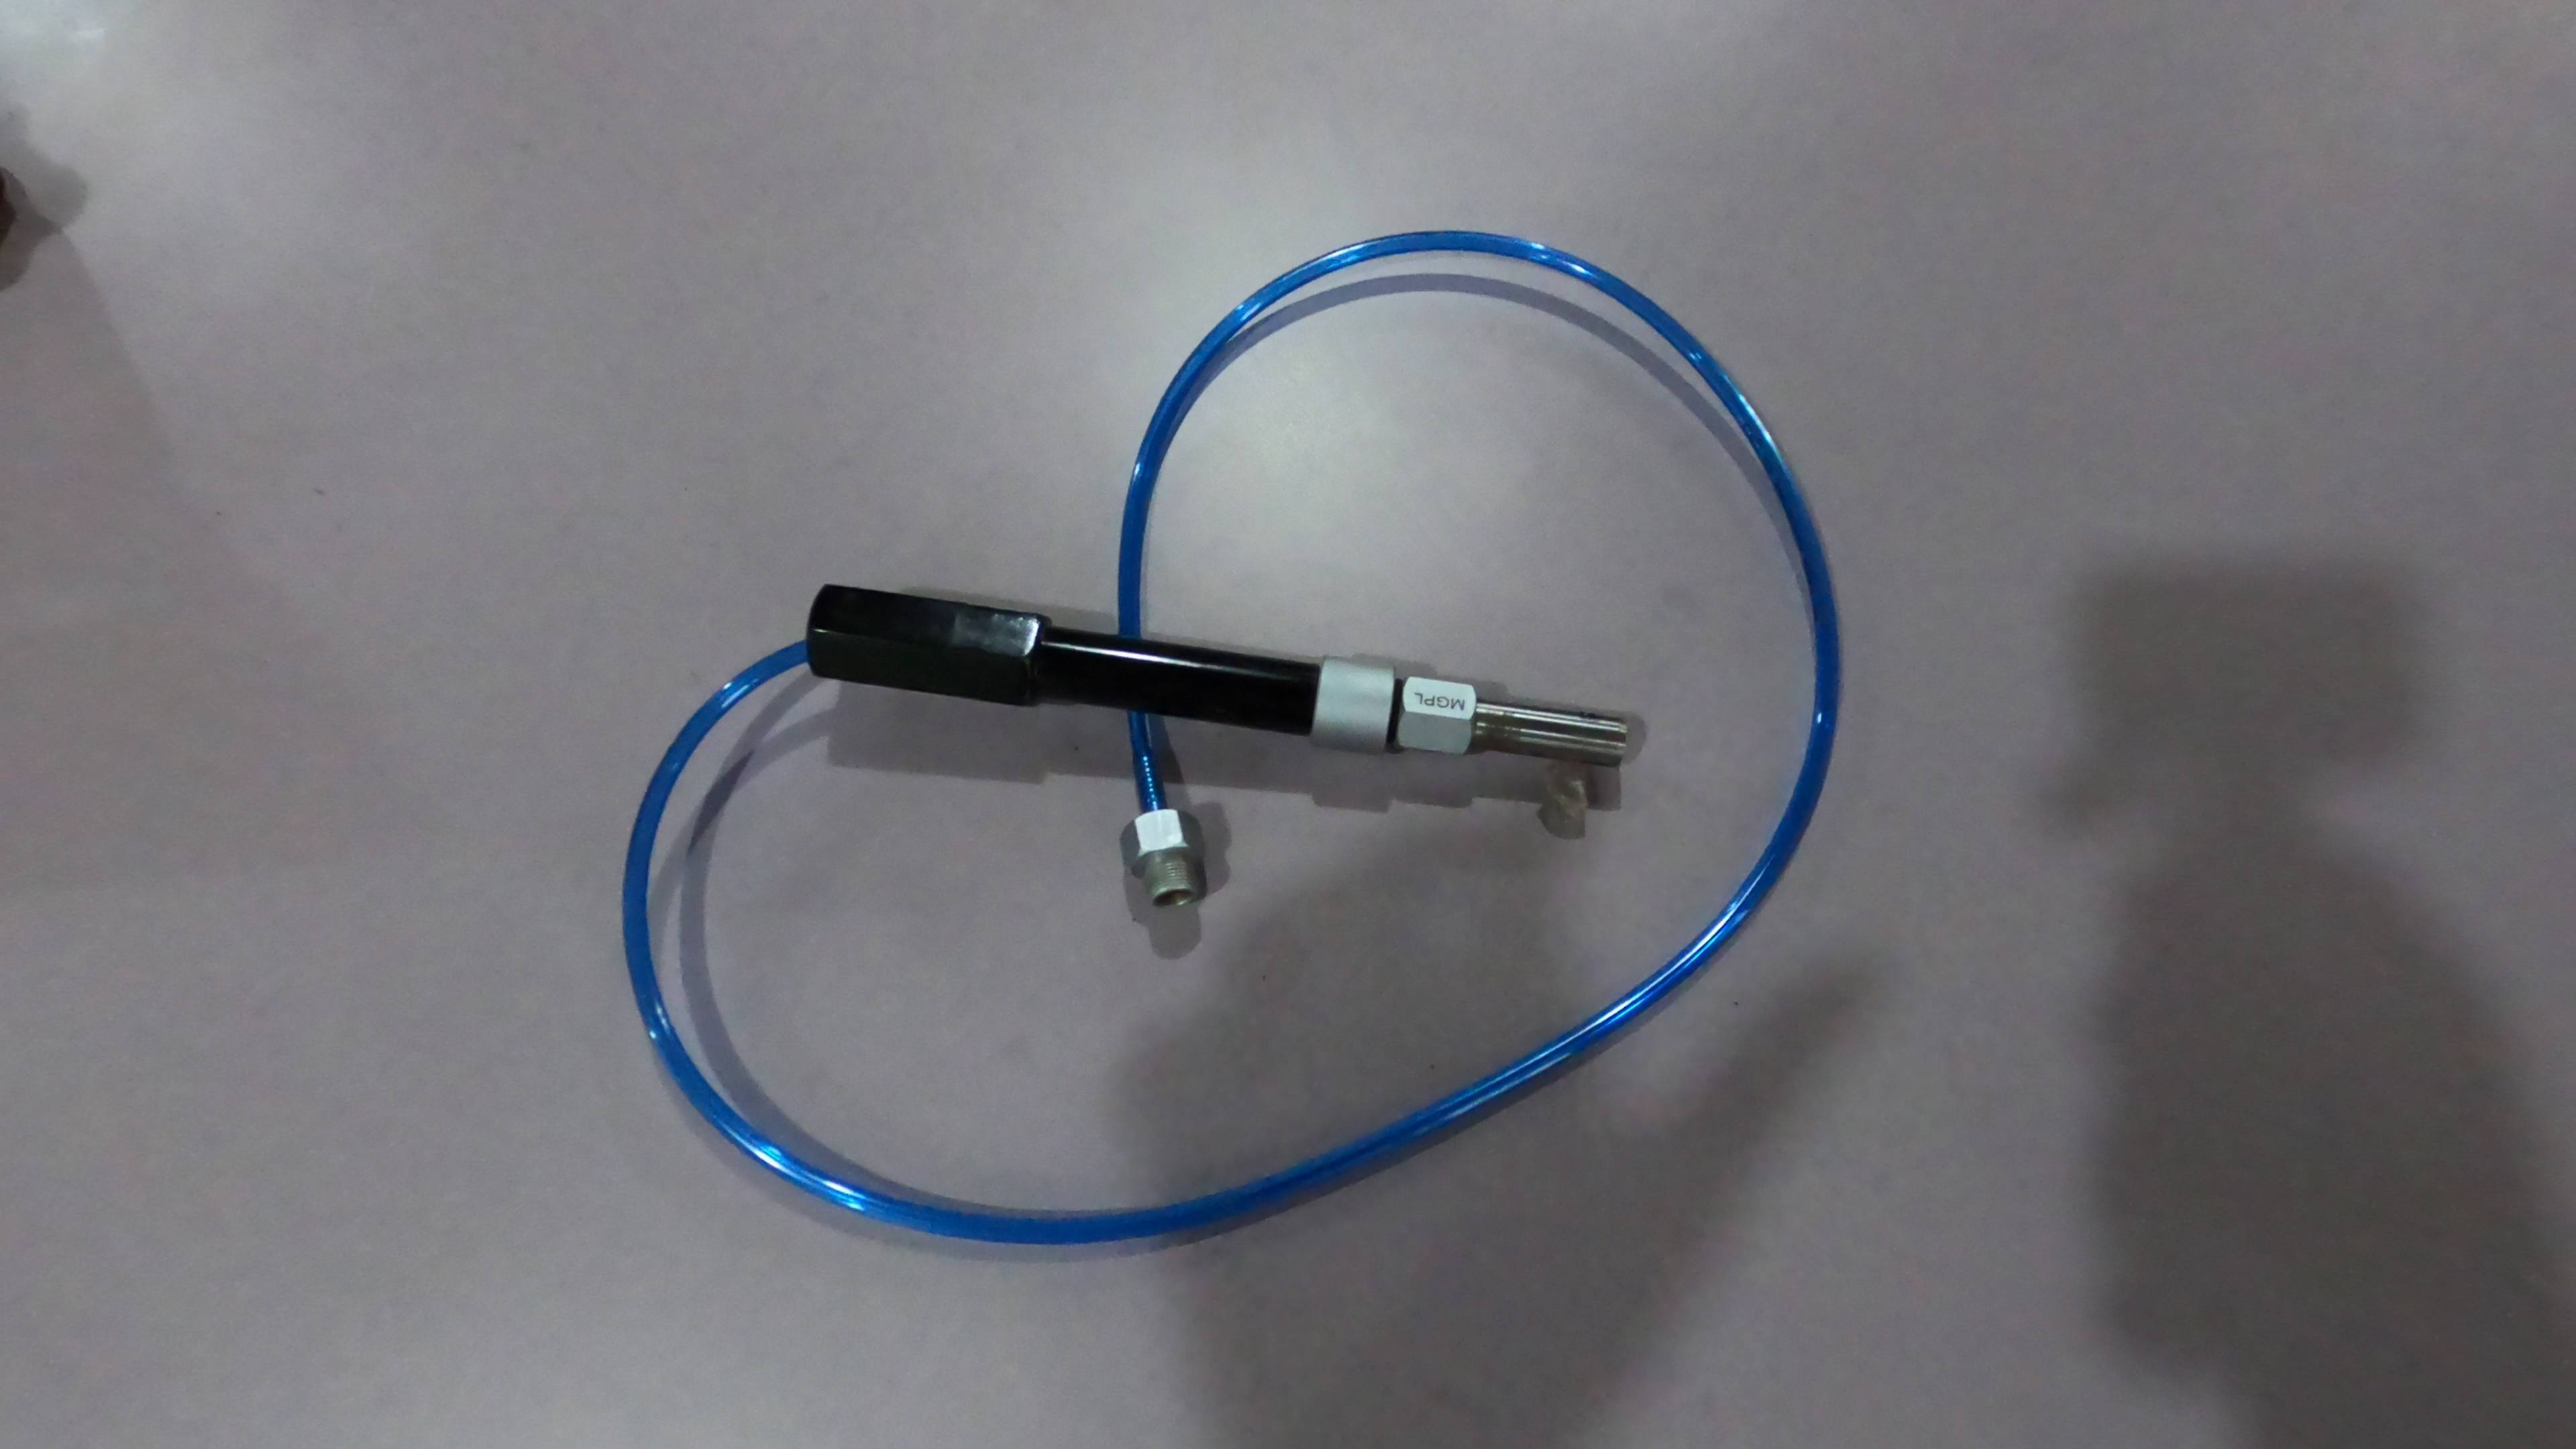air_gauge: (801, 541, 1638, 796)
